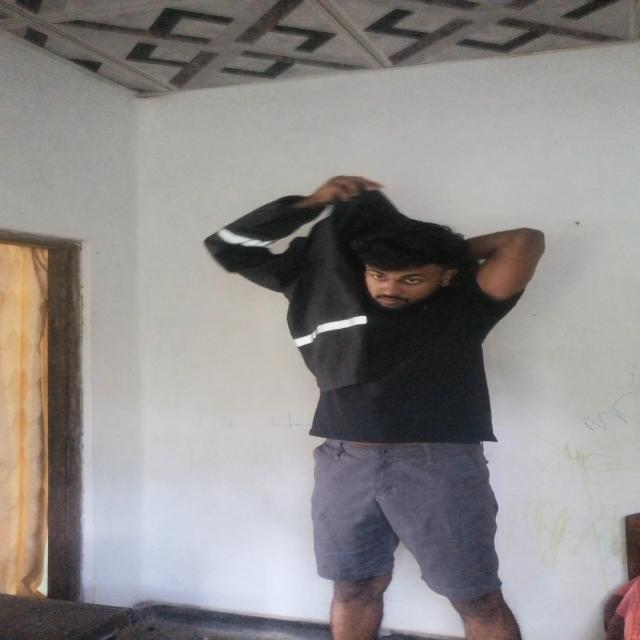Jacket_Wearer: (194, 186, 536, 415)
Person: (201, 171, 576, 640)
